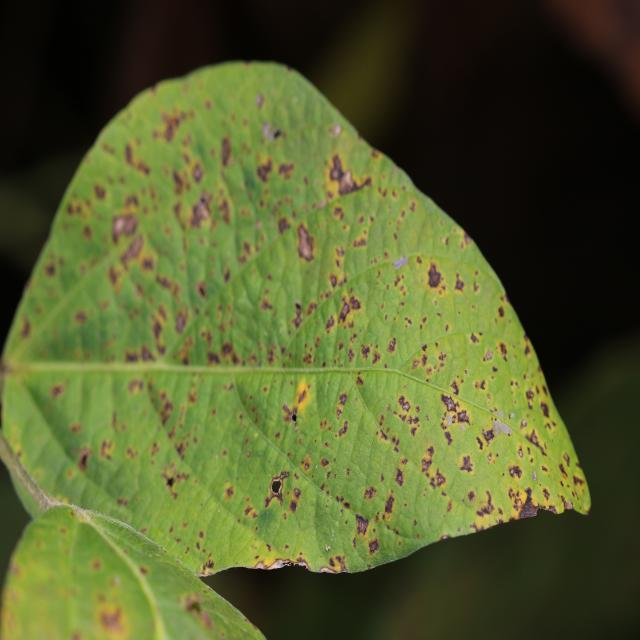Bacterial_Blight: (319, 147, 373, 206), (510, 474, 568, 523), (253, 149, 295, 191), (157, 106, 192, 143), (474, 411, 504, 454), (296, 225, 327, 265), (333, 291, 362, 332), (124, 138, 152, 175), (148, 306, 171, 351), (253, 556, 315, 572), (173, 423, 199, 460), (119, 234, 145, 270), (111, 211, 139, 244), (98, 603, 126, 634), (292, 379, 313, 419), (394, 395, 419, 428), (155, 391, 174, 426), (474, 488, 495, 517), (376, 426, 399, 451), (526, 429, 548, 454), (191, 200, 211, 227), (215, 195, 232, 226), (74, 446, 93, 473), (172, 167, 190, 195), (195, 606, 214, 631), (281, 401, 299, 427), (426, 262, 444, 288), (329, 154, 345, 182), (334, 391, 348, 423), (256, 156, 273, 182), (326, 554, 349, 573), (111, 411, 128, 436), (420, 446, 435, 474), (185, 595, 203, 617), (519, 499, 538, 519), (263, 121, 282, 141), (288, 486, 302, 512), (221, 137, 233, 167), (99, 438, 114, 461), (355, 513, 370, 536), (457, 453, 473, 474), (127, 378, 144, 396), (19, 316, 32, 339), (573, 473, 586, 496), (442, 395, 458, 413), (175, 310, 187, 334), (292, 302, 303, 328), (270, 477, 284, 497), (383, 491, 395, 514), (50, 382, 66, 399), (456, 408, 471, 426), (397, 394, 412, 412), (163, 472, 177, 490), (433, 469, 446, 488), (221, 341, 234, 360), (223, 482, 236, 501), (200, 557, 215, 573), (94, 182, 107, 200), (192, 162, 204, 181), (195, 281, 207, 300), (539, 400, 551, 419), (300, 453, 312, 472), (363, 485, 377, 501), (392, 256, 409, 269), (453, 274, 465, 292), (508, 464, 522, 479), (328, 122, 342, 137), (498, 342, 509, 361), (349, 295, 362, 311), (244, 503, 257, 518), (368, 539, 380, 555), (338, 420, 349, 437), (360, 344, 371, 360), (90, 558, 102, 572), (449, 380, 460, 395), (443, 430, 453, 446), (395, 468, 404, 485), (525, 389, 535, 404), (255, 93, 265, 108), (483, 349, 494, 362), (388, 337, 397, 352), (470, 332, 480, 344), (339, 392, 347, 406), (563, 452, 571, 466), (319, 458, 329, 469), (497, 305, 505, 318), (356, 374, 364, 387), (295, 301, 302, 312), (522, 419, 528, 427), (518, 448, 523, 457)
Soybean: (0, 63, 590, 575)
